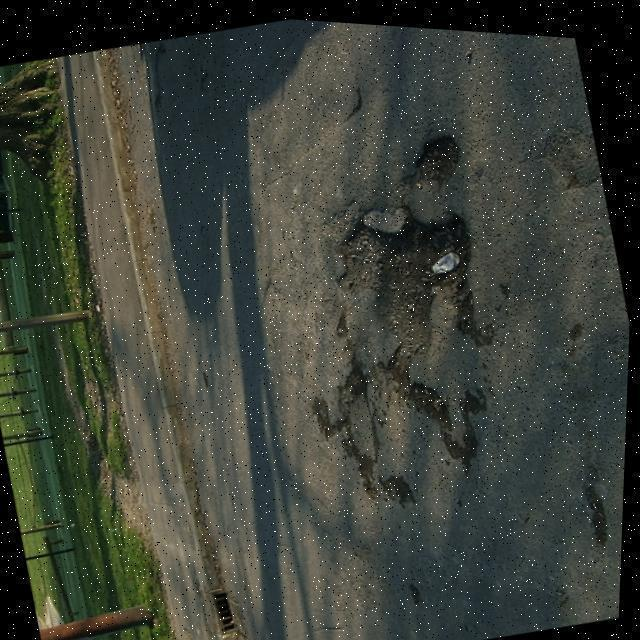Pothole: (321, 203, 482, 359)
